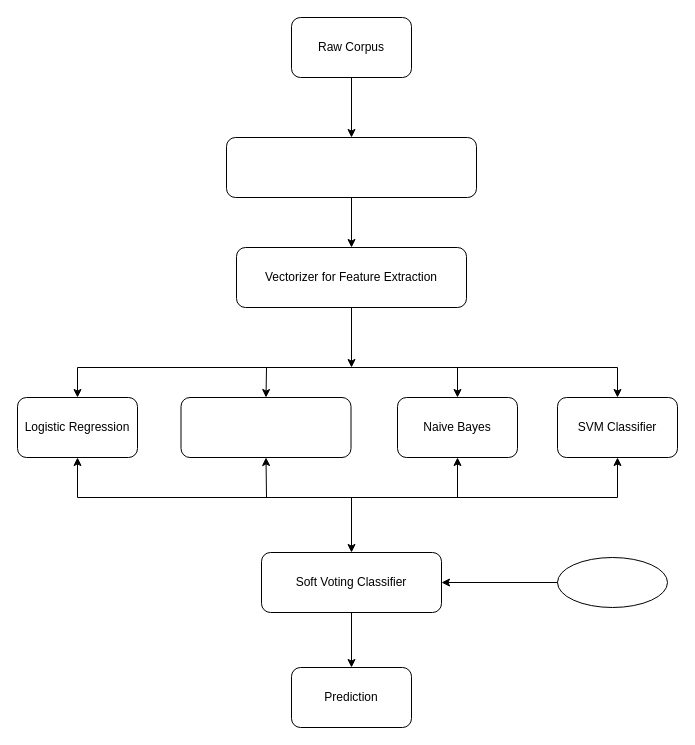
This 695x745 diagram has some shape labels left out. Each missing label, with the box of its shape:
Input: (556, 556, 668, 608)
Random Forest Classifier: (180, 396, 351, 458)
Stops Words and Punctuation Removal: (226, 136, 476, 198)
